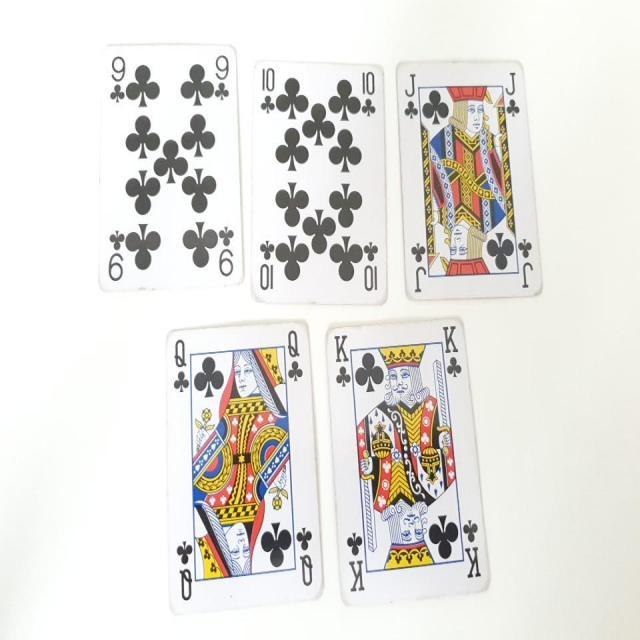10 of clubs: (247, 54, 391, 305)
9 of clubs: (96, 37, 246, 290)
jack of clubs: (394, 58, 544, 300)
king of clubs: (324, 315, 492, 609)
queen of clubs: (162, 318, 324, 609)
